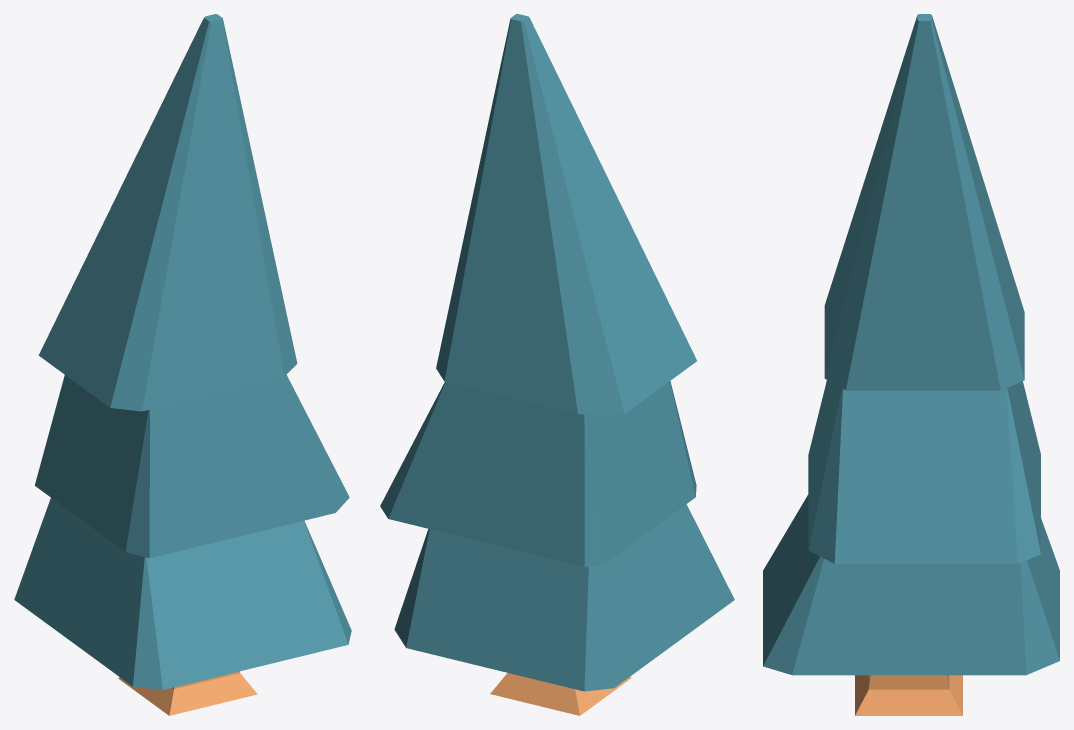
The model's file is tree_pineSmall_square3.fbx.
3 renders of one model, left to right at view 1: azimuth 30°, elevation 25°; view 2: azimuth 150°, elevation 25°; view 3: azimuth 270°, elevation 25°, orthographic. The views are drawn at different scales.
Parts seen in each view (by area): view 1: tree_pineSmall_square3; view 2: tree_pineSmall_square3; view 3: tree_pineSmall_square3.
Boxes of the visible parts, x1,y1,x2,y2 form: tree_pineSmall_square3: (14,14,351,715); tree_pineSmall_square3: (380,14,734,715); tree_pineSmall_square3: (763,14,1059,715).
Bounding box in the file's own units: 3.86 × 10.09 × 3.92.
